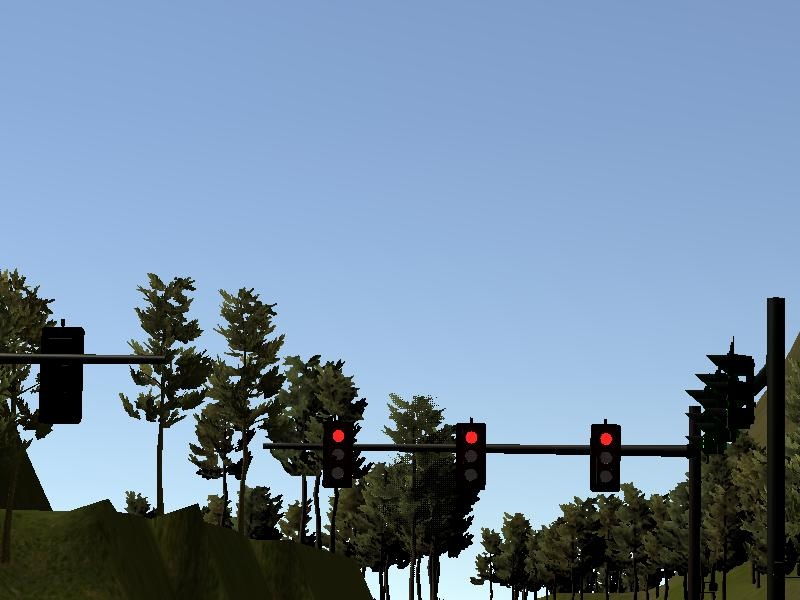red: (452, 416, 491, 498), (587, 418, 623, 493), (321, 418, 359, 488)
